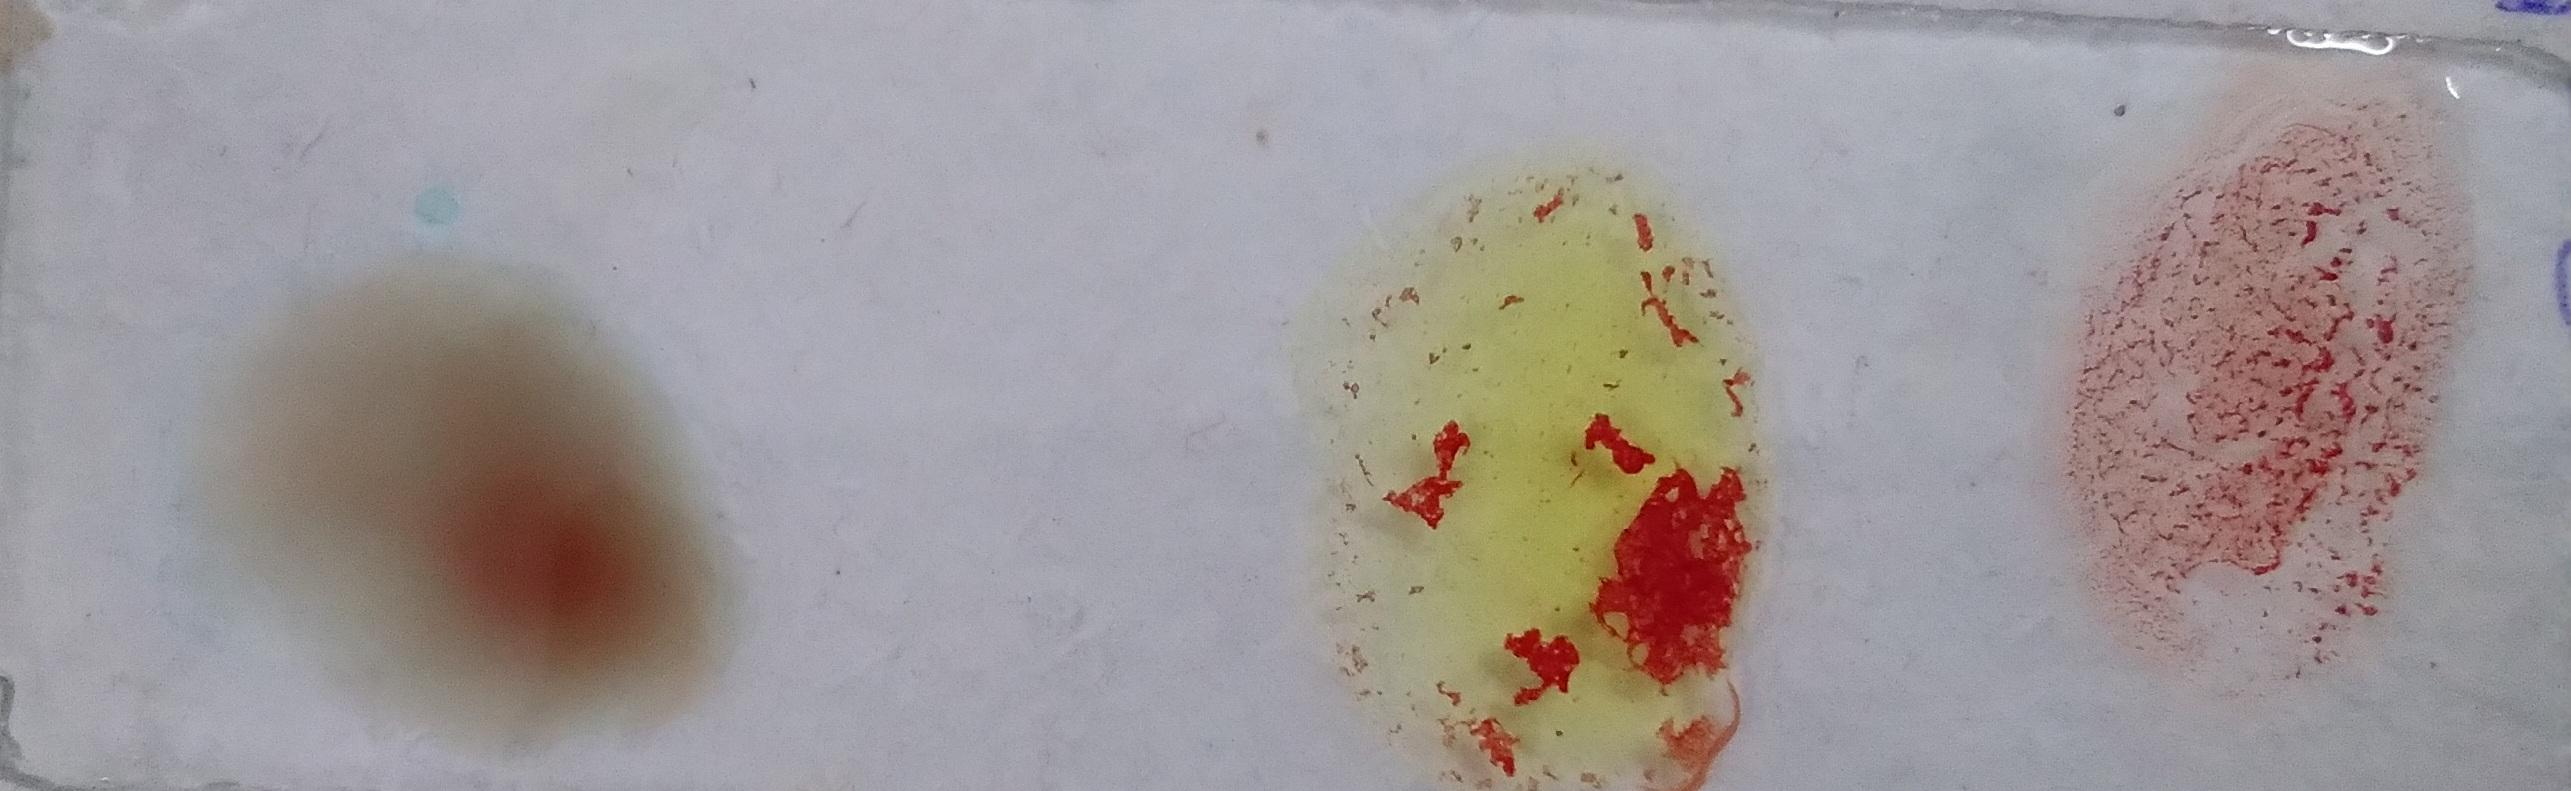B: (823, 3, 1212, 620)
D: (123, 77, 472, 679)
